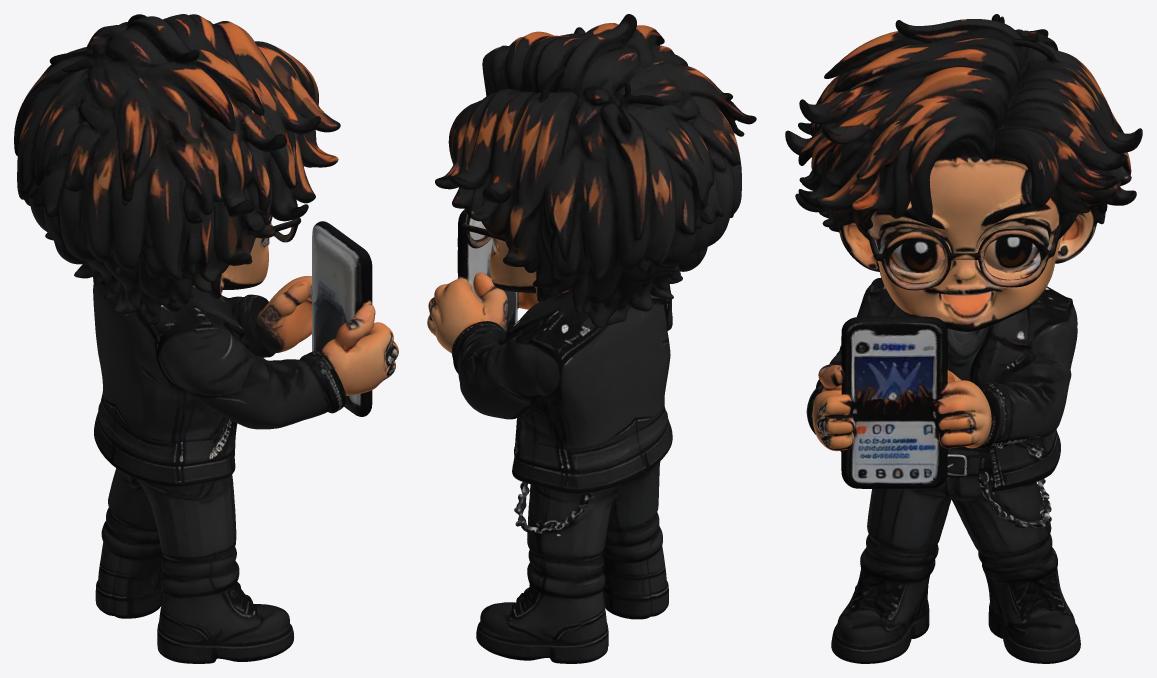
The model's file is kouhou.glb.
3 renders of one model, left to right at view 1: azimuth 30°, elevation 25°; view 2: azimuth 150°, elevation 25°; view 3: azimuth 270°, elevation 25°, orthographic. The views are drawn at different scales.
Parts seen in each view (by area): view 1: tripo_node_e1ac1237-7780-471b-8533-1beac11995ff; view 2: tripo_node_e1ac1237-7780-471b-8533-1beac11995ff; view 3: tripo_node_e1ac1237-7780-471b-8533-1beac11995ff.
Part boxes in pixels (bbox=[...]): tripo_node_e1ac1237-7780-471b-8533-1beac11995ff: bbox=[14, 14, 398, 663]; tripo_node_e1ac1237-7780-471b-8533-1beac11995ff: bbox=[427, 14, 756, 663]; tripo_node_e1ac1237-7780-471b-8533-1beac11995ff: bbox=[785, 14, 1142, 663].
Size of the model in its own units: 0.5159 by 1 by 0.5292.
Materials: 1 (1 with a texture image).
